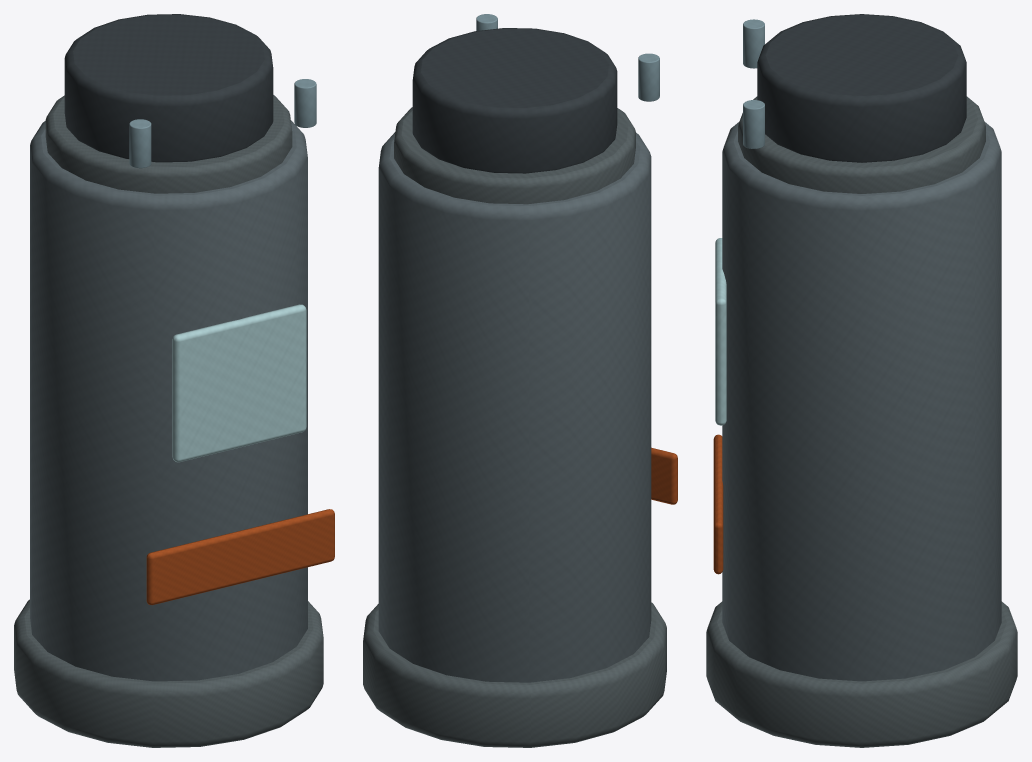
The model's file is SpecimenCanister.fbx.
3 views of the same model, side by side, from view 1: azimuth 30°, elevation 25°; view 2: azimuth 150°, elevation 25°; view 3: azimuth 270°, elevation 25° (orthographic).
Visible parts, largest first — view 1: SpecimenCanister_Mesh; view 2: SpecimenCanister_Mesh; view 3: SpecimenCanister_Mesh.
Boxes of the visible parts, left/top/right/bottom form: SpecimenCanister_Mesh: left=14, top=14, right=334, bottom=747; SpecimenCanister_Mesh: left=363, top=14, right=677, bottom=747; SpecimenCanister_Mesh: left=706, top=14, right=1017, bottom=747.
Size of the model in its own units: 49 by 110 by 49.
